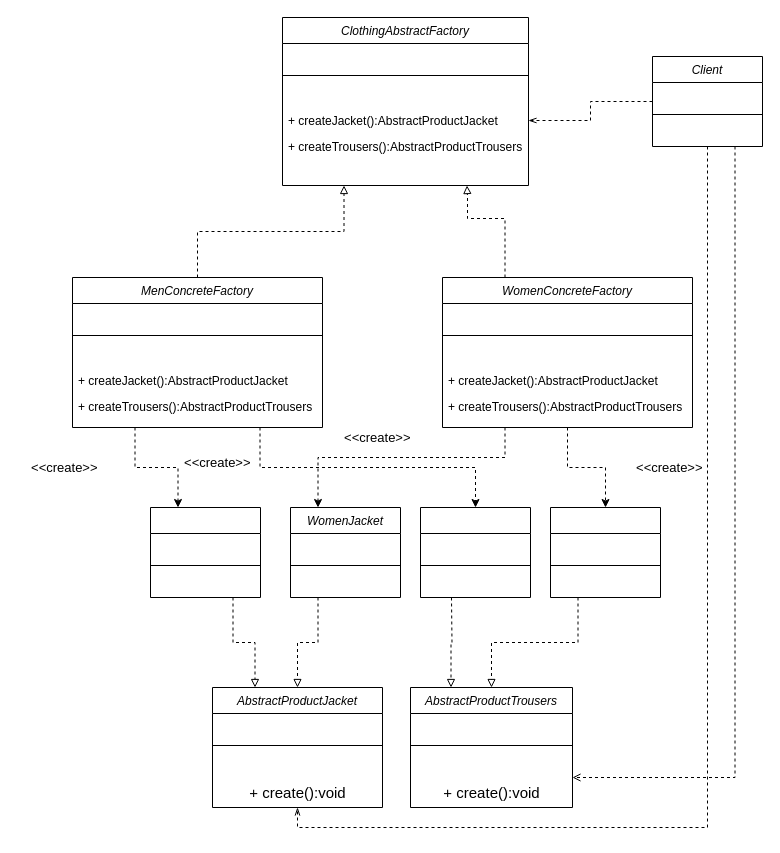
This 780x853 diagram has some shape labels left out. The centre of each missing label's shape, as x and y in pixels:
"MenJacket" goes at point (475, 552).
"MenTrousers" goes at point (205, 552).
"WomenTrousers" goes at point (605, 552).
